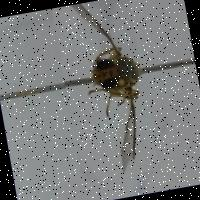Oriental-fruit-fly: (50, 0, 158, 181)
